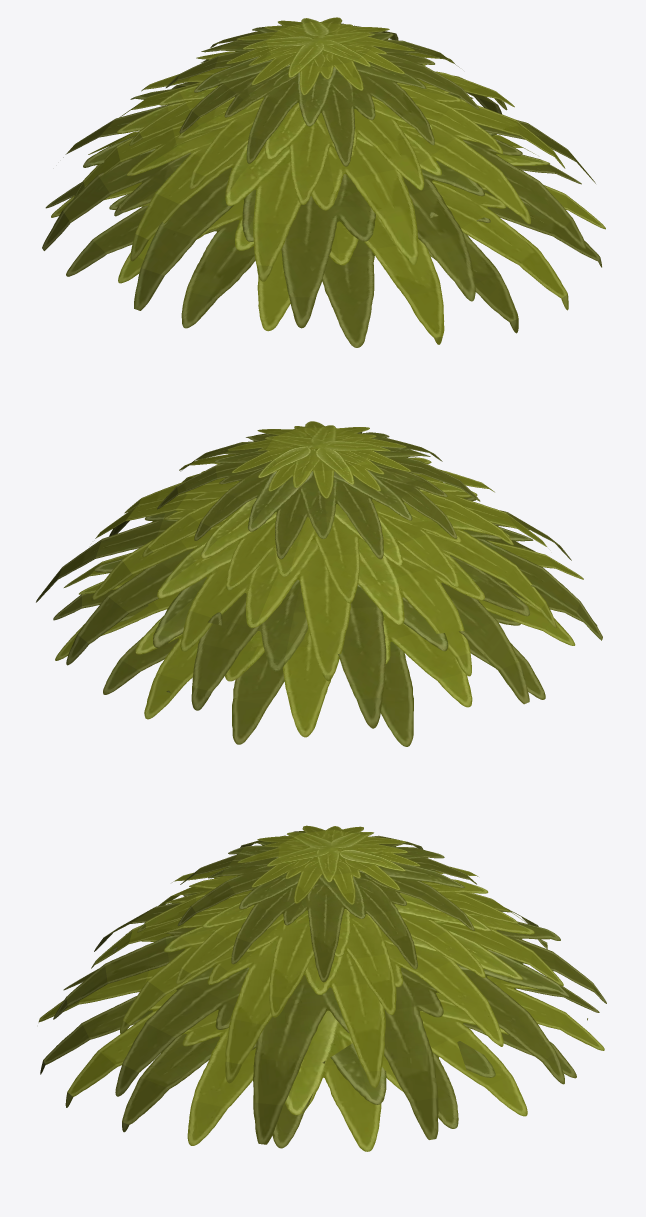
File: pm-bush-02-2.glb
The picture shows the model from 3 angles, top to bottom: view 1: azimuth 30°, elevation 25°; view 2: azimuth 150°, elevation 25°; view 3: azimuth 270°, elevation 25°; orthographic projection.
Visible parts, largest first — view 1: Bush02; view 2: Bush02; view 3: Bush02.
Part boxes in pixels (<box>): Bush02: <box>42,17,605,347</box>; Bush02: <box>36,421,602,746</box>; Bush02: <box>38,825,606,1151</box>.
Size of the model in its own units: 1.95 by 0.7856 by 1.96.
Materials: 1 (1 with a texture image).
